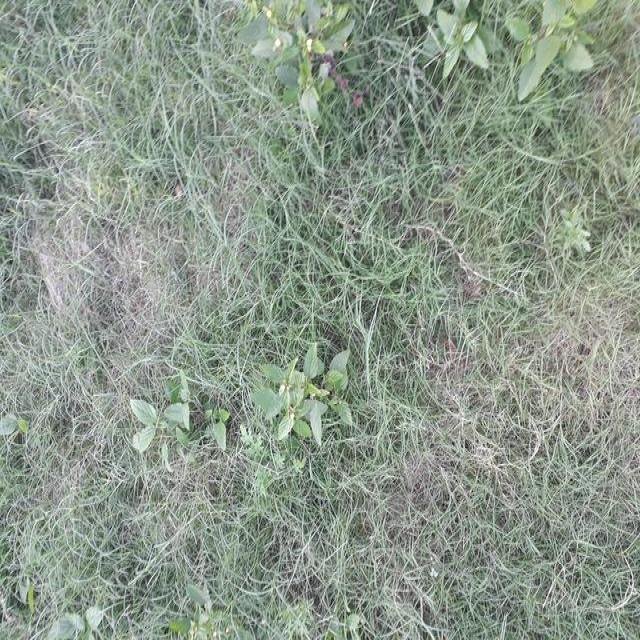weed: (263, 1, 351, 120), (259, 346, 355, 445), (515, 2, 596, 95), (121, 388, 190, 466), (428, 1, 484, 68), (556, 204, 592, 256)
